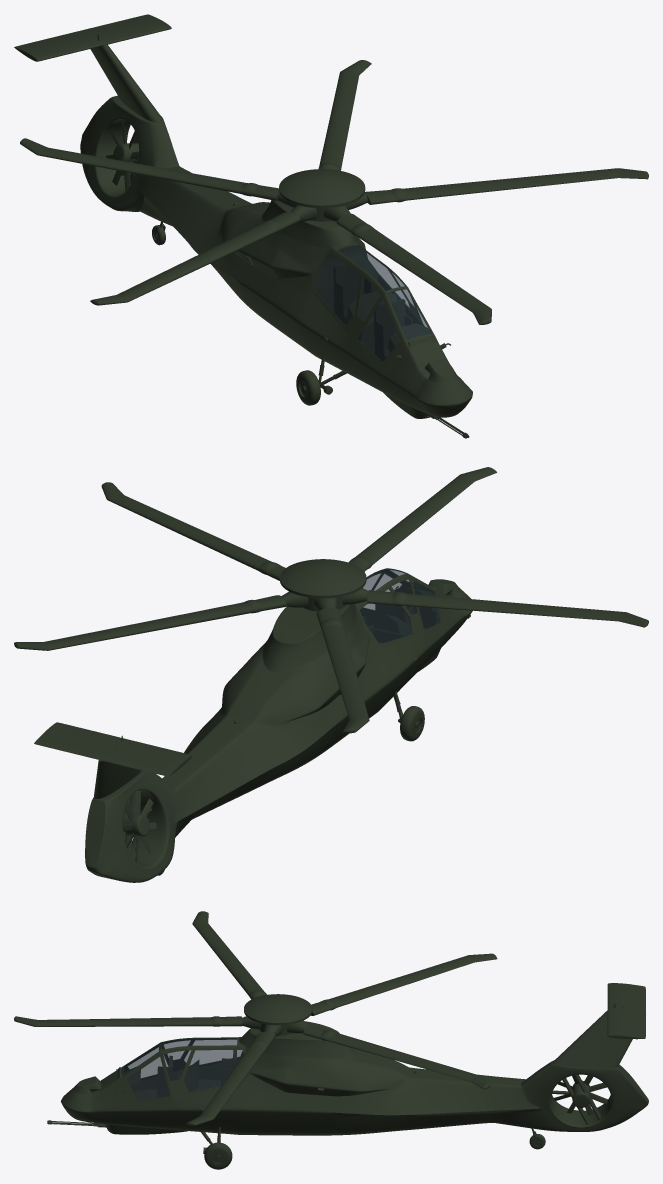
File: comanche.glb
The picture shows the model from 3 angles, top to bottom: view 1: azimuth 30°, elevation 25°; view 2: azimuth 150°, elevation 25°; view 3: azimuth 270°, elevation 25°; orthographic projection. The views are drawn at different scales.
Parts seen in each view (by area): view 1: body, rotor-main; view 2: body, rotor-main, rotor-tail; view 3: body, rotor-main, rotor-tail.
Part boxes in pixels (box(x1,y1,x2,y2)): body: box(14, 14, 472, 438); rotor-main: box(20, 60, 648, 324); body: box(34, 568, 472, 882); rotor-main: box(14, 467, 648, 733); rotor-tail: box(122, 791, 157, 862); body: box(47, 983, 648, 1169); rotor-main: box(14, 911, 497, 1125); rotor-tail: box(553, 1075, 608, 1115).
Size of the model in its own units: 11.34 by 3.68 by 14.3.
